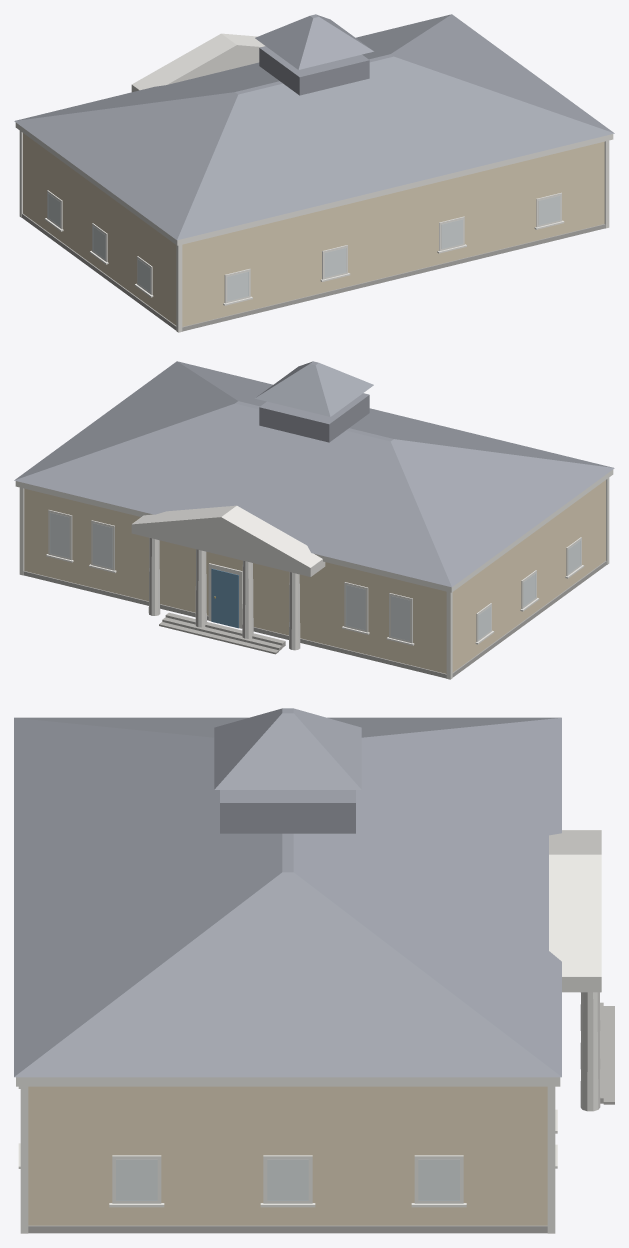
Rendered from library_a.glb.
The picture shows the model from 3 angles, top to bottom: view 1: azimuth 30°, elevation 25°; view 2: azimuth 150°, elevation 25°; view 3: azimuth 270°, elevation 25°; orthographic projection. The views are drawn at different scales.
Visible parts, largest first — view 1: roof, body; view 2: roof, body; view 3: roof, body.
Part boxes in pixels (x1,y1,x2,y2): roof: (14, 14, 614, 240); body: (15, 33, 613, 332); roof: (14, 361, 614, 587); body: (15, 469, 613, 679); roof: (14, 708, 561, 1077); body: (16, 830, 614, 1233).
Bounding box in the file's own units: 22.5 × 10.1 × 15.9.
